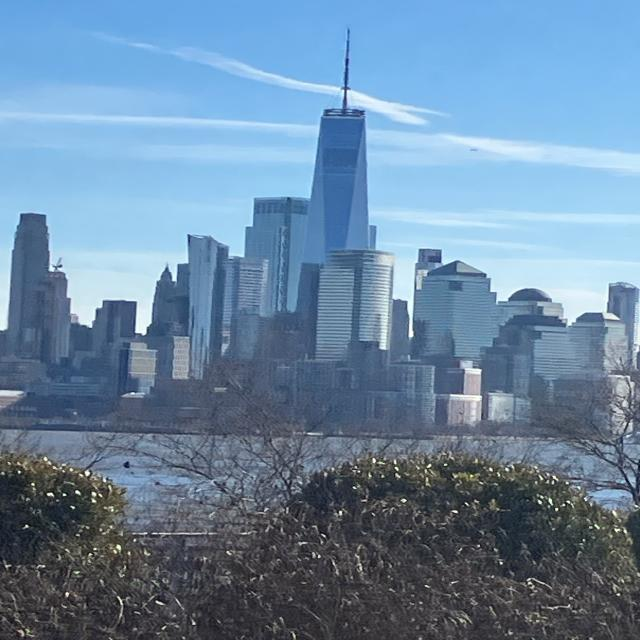WTC: (302, 28, 373, 253)
